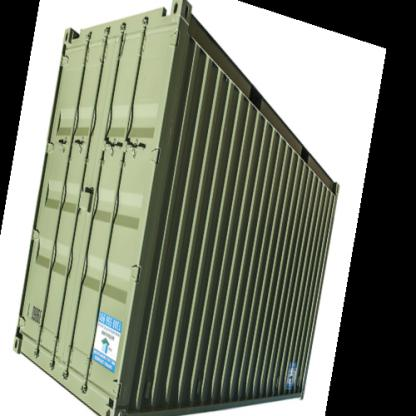Damage: (165, 101, 184, 144)
